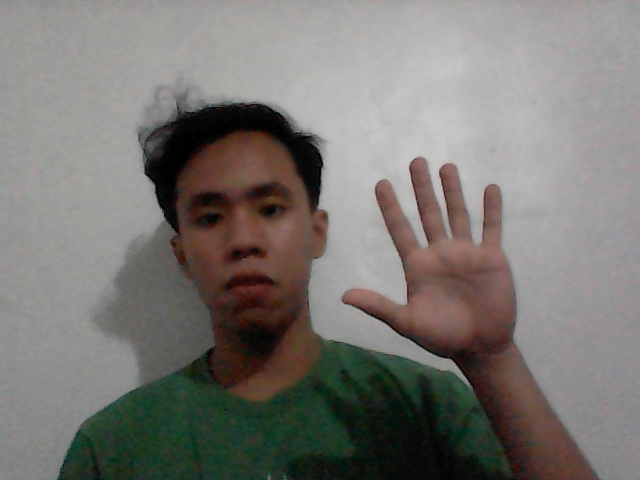Hello: (332, 141, 549, 372)
